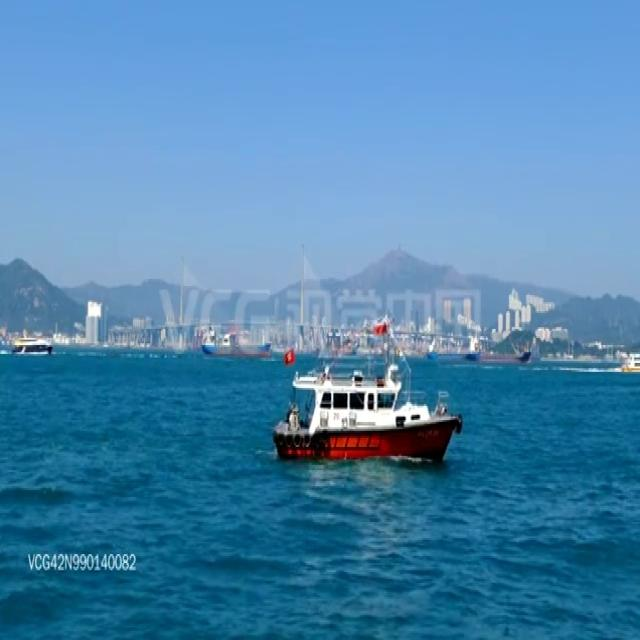houseboat: (273, 364, 459, 462), (12, 336, 54, 354), (620, 350, 640, 372)
